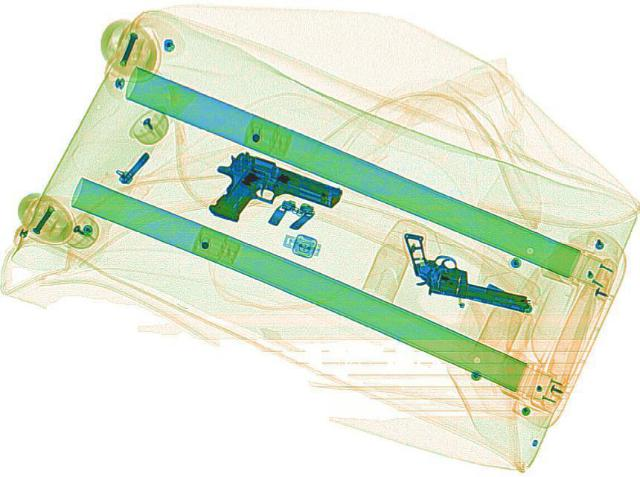Gun: (188, 146, 348, 245), (380, 231, 552, 312)
